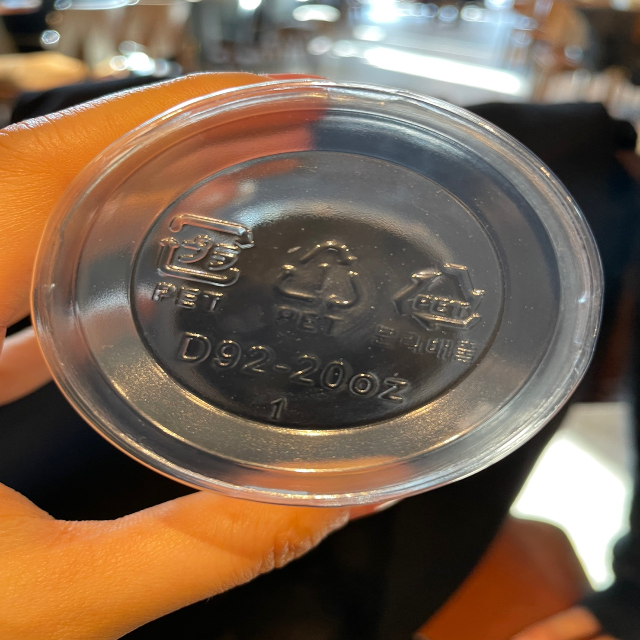pet: (142, 196, 257, 320), (374, 251, 487, 377), (263, 232, 374, 350)
